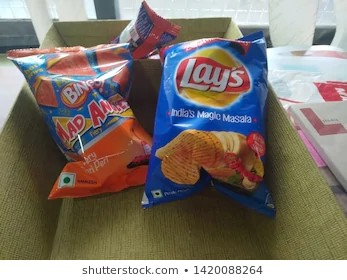lays-small: (141, 37, 276, 209)
